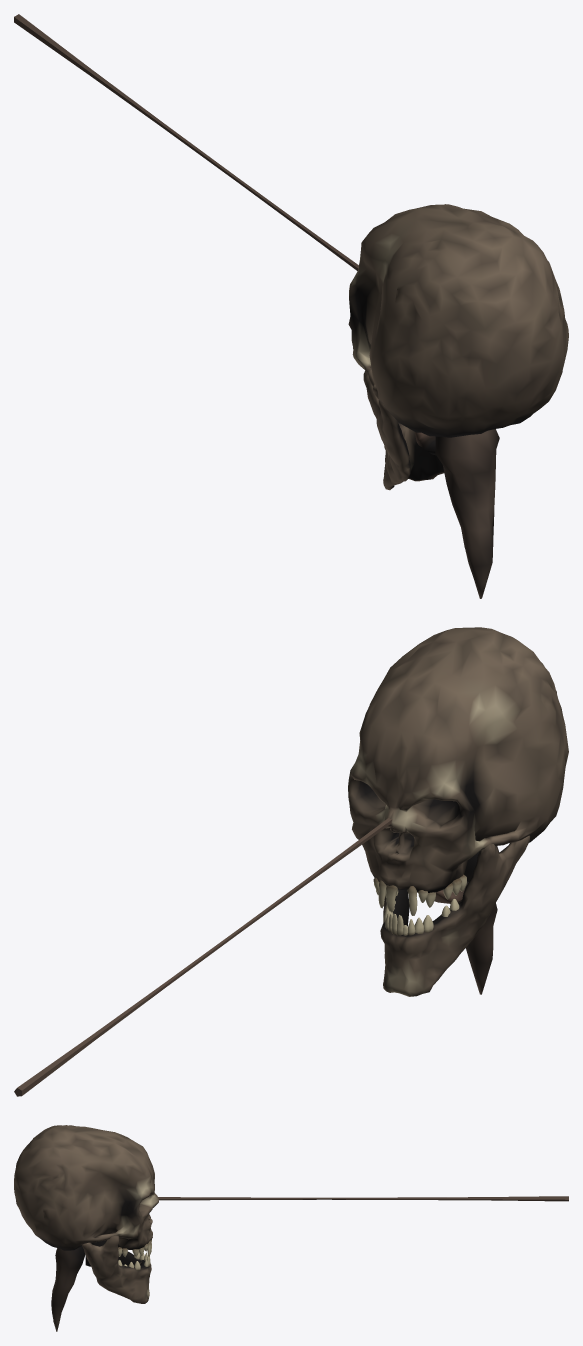
The model's file is anima_face.glb.
The picture shows the model from 3 angles, top to bottom: view 1: azimuth 30°, elevation 25°; view 2: azimuth 150°, elevation 25°; view 3: azimuth 270°, elevation 25°; orthographic projection. The views are drawn at different scales.
Parts seen in each view (by area): view 1: Skull, Gullet, Jaw, Sinew; view 2: Skull, Jaw, Sinew, Gullet; view 3: Skull, Jaw, Sinew, Gullet.
Part boxes in pixels (x1,y1,x2,y2): Skull: (348, 204, 568, 437); Gullet: (435, 429, 499, 598); Jaw: (363, 367, 444, 490); Sinew: (14, 14, 358, 270); Skull: (348, 627, 568, 915); Jaw: (380, 835, 529, 996); Sinew: (14, 818, 392, 1096); Gullet: (457, 846, 499, 994); Skull: (14, 1125, 158, 1256); Jaw: (81, 1235, 151, 1303); Sinew: (158, 1196, 568, 1201); Gullet: (51, 1246, 85, 1331).
Size of the model in its own units: 0.2283 by 0.4558 by 1.13.
